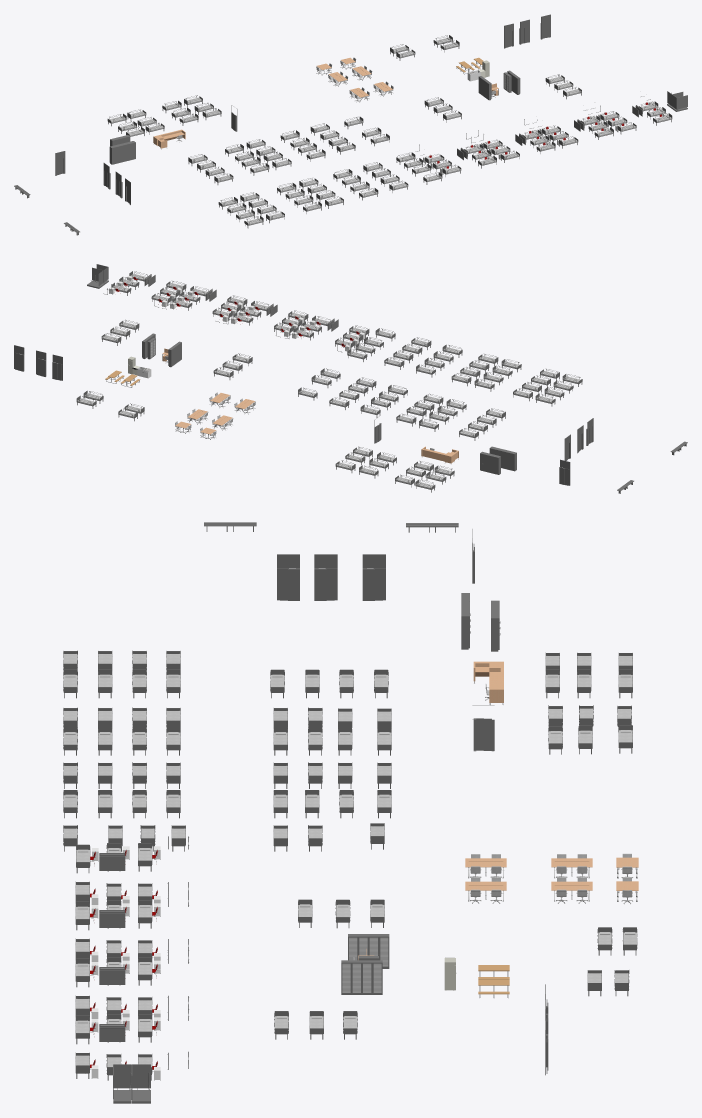
The model's file is F3_jiaju.glb.
3 renders of one model, top to bottom at view 1: azimuth 30°, elevation 25°; view 2: azimuth 150°, elevation 25°; view 3: azimuth 270°, elevation 25°, orthographic. The views are drawn at different scales.
Parts seen in each view (by area): view 1: no part large enough to name; view 2: jjxt-1 [1909225]; view 3: 1300 [1398386], 1300 [1398385], 1300 [1398387], jjxt-1 [1909225].
Boxes of the visible parts, left/top/right/bottom form: jjxt-1 [1909225]: left=421, top=446, right=458, bottom=464; 1300 [1398386]: left=315, top=554, right=337, bottom=600; 1300 [1398385]: left=363, top=554, right=385, bottom=600; 1300 [1398387]: left=277, top=554, right=299, bottom=600; jjxt-1 [1909225]: left=473, top=661, right=503, bottom=704.
Size of the model in its own units: 78.64 by 2.9 by 33.29.
20 materials, 3 textured.
